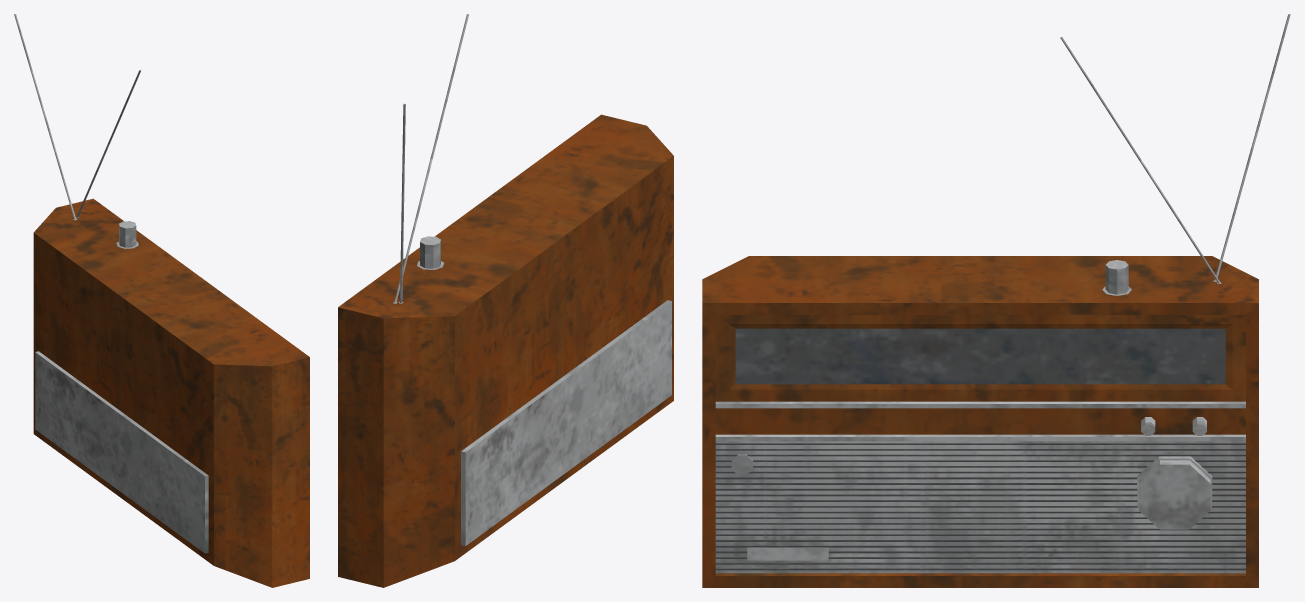
The model's file is Radio_SM.fbx.
3 views of the same model, side by side, from view 1: azimuth 30°, elevation 25°; view 2: azimuth 150°, elevation 25°; view 3: azimuth 270°, elevation 25° (orthographic). The views are drawn at different scales.
Visible parts, largest first — view 1: Box009; view 2: Box009; view 3: Box009.
Part boxes in pixels (x1,y1,x2,y2): Box009: (14,14,309,587); Box009: (338,14,673,587); Box009: (702,14,1290,587).
Bounding box in the file's own units: 19.8 × 88.57 × 88.83.
